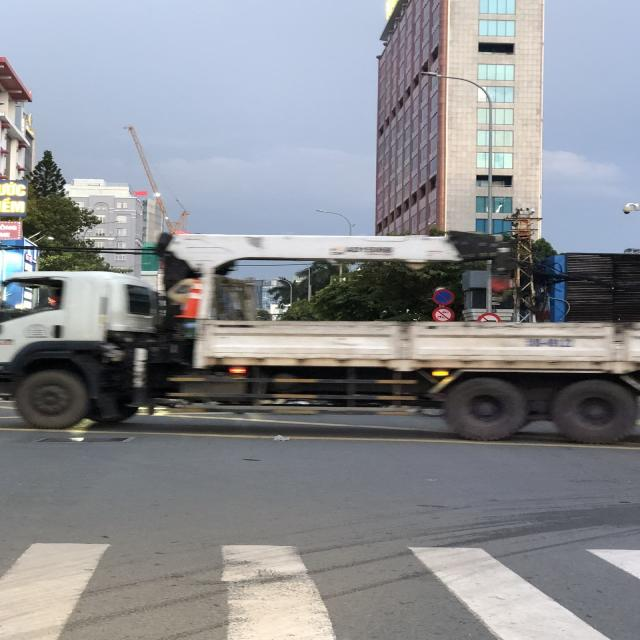Bien bao cam do xe: (430, 287, 456, 306)
